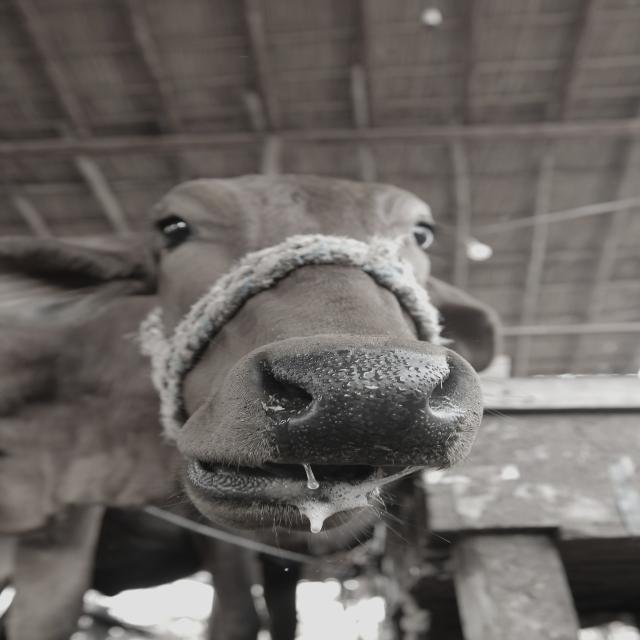muzzles: (242, 339, 479, 474)
